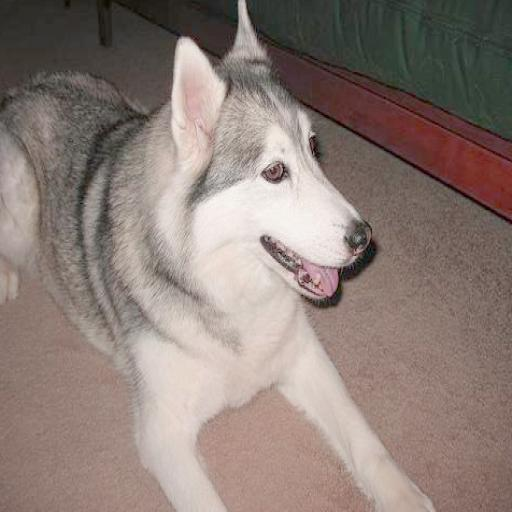dog_face: (188, 1, 365, 304)
